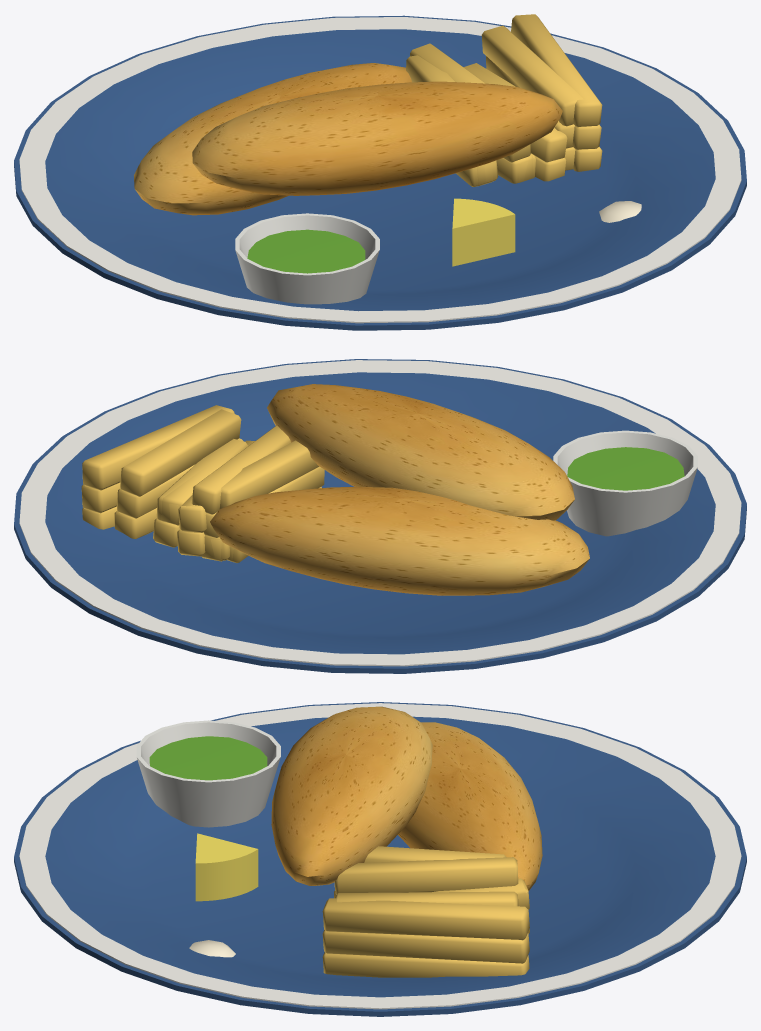
File: meal_fish_and_chips.glb
The picture shows the model from 3 angles, top to bottom: view 1: azimuth 30°, elevation 25°; view 2: azimuth 150°, elevation 25°; view 3: azimuth 270°, elevation 25°; orthographic projection.
Visible parts, largest first — view 1: meal_fish_and_chips; view 2: meal_fish_and_chips; view 3: meal_fish_and_chips.
Part boxes in pixels (box(x1,y1,x2,y2)): meal_fish_and_chips: box(14, 14, 746, 330); meal_fish_and_chips: box(14, 359, 746, 673); meal_fish_and_chips: box(14, 702, 746, 1016).
Bounding box in the file's own units: 0.32 × 0.064 × 0.32.
Materials: 8 (1 with a texture image).
